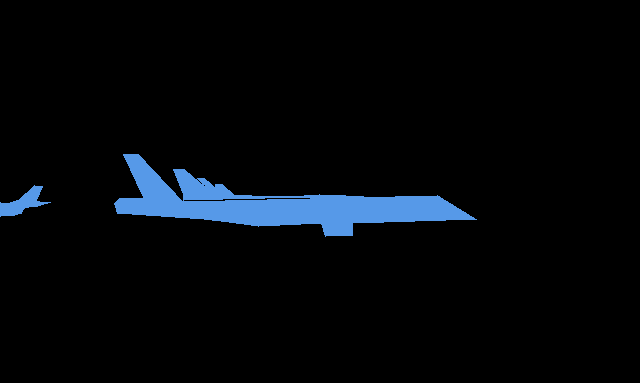Airplane: (114, 154, 477, 237), (173, 169, 363, 201), (0, 185, 50, 216), (197, 178, 226, 197), (215, 184, 234, 195)
